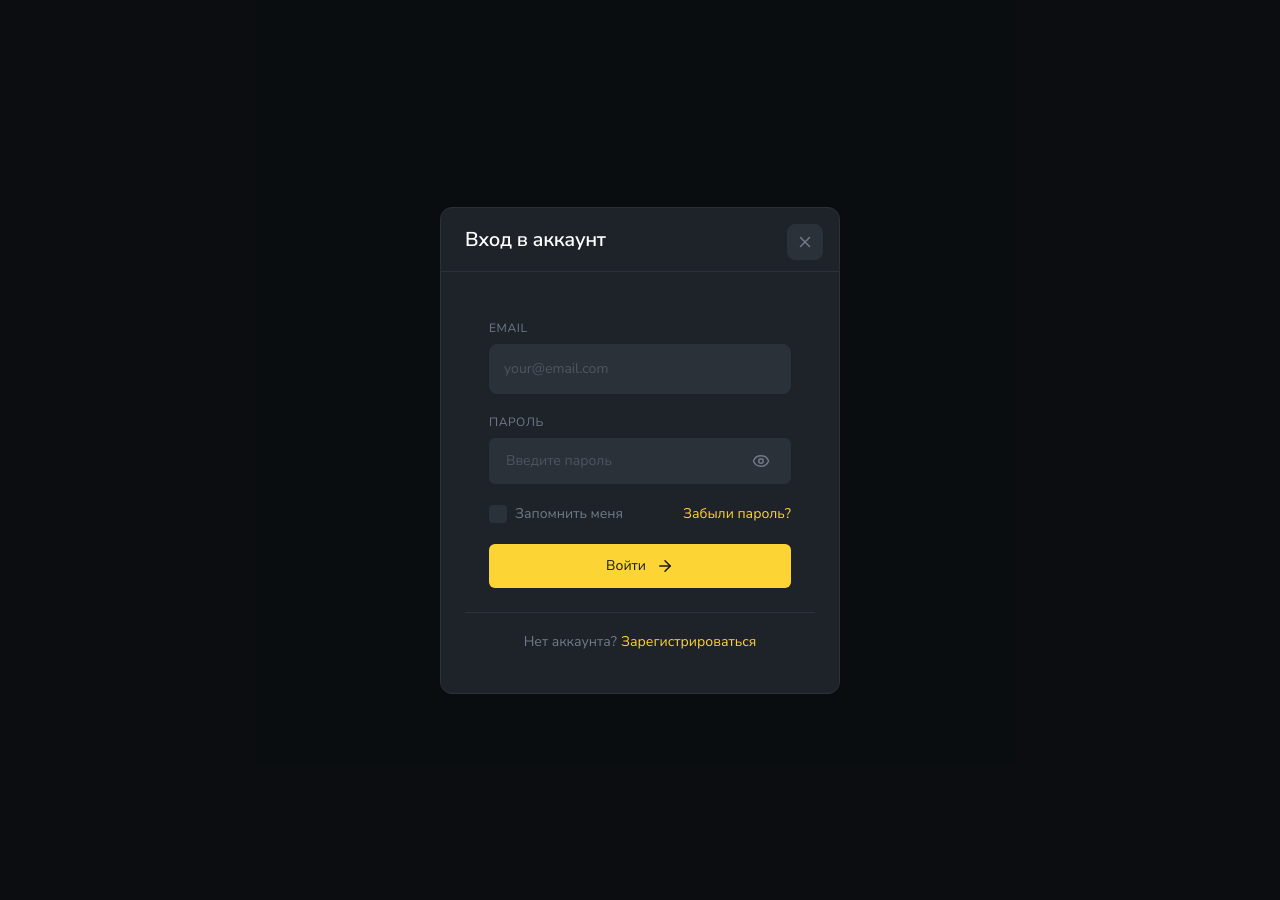
Test case: LoginModal › validates invalid email format on submit
Type "invalid-email" into the field with placeholder "your@email.com" at (640, 368), box [489,344,791,394]
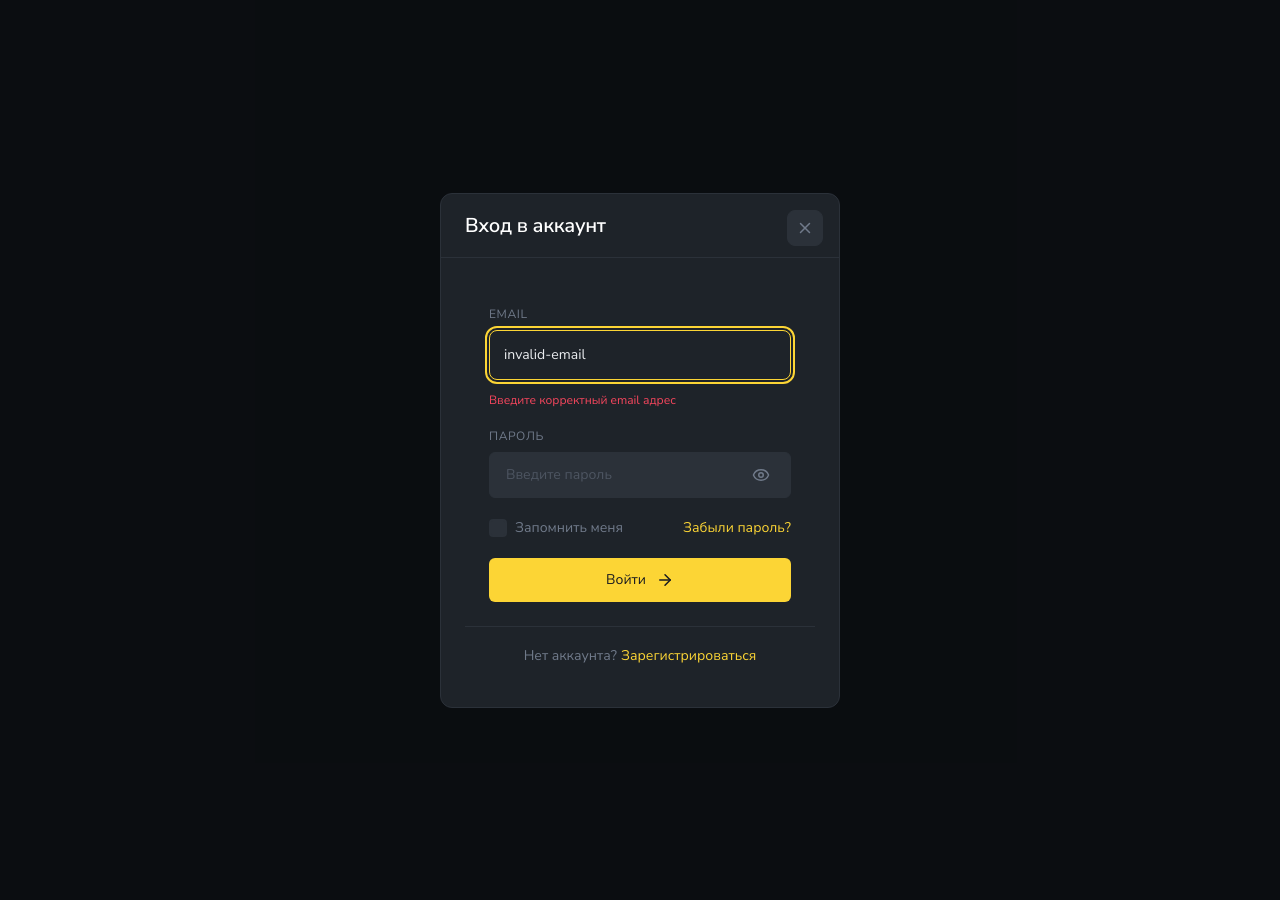
Expected: the text "Введите корректный email адрес" is shown, [489,392,676,408]
